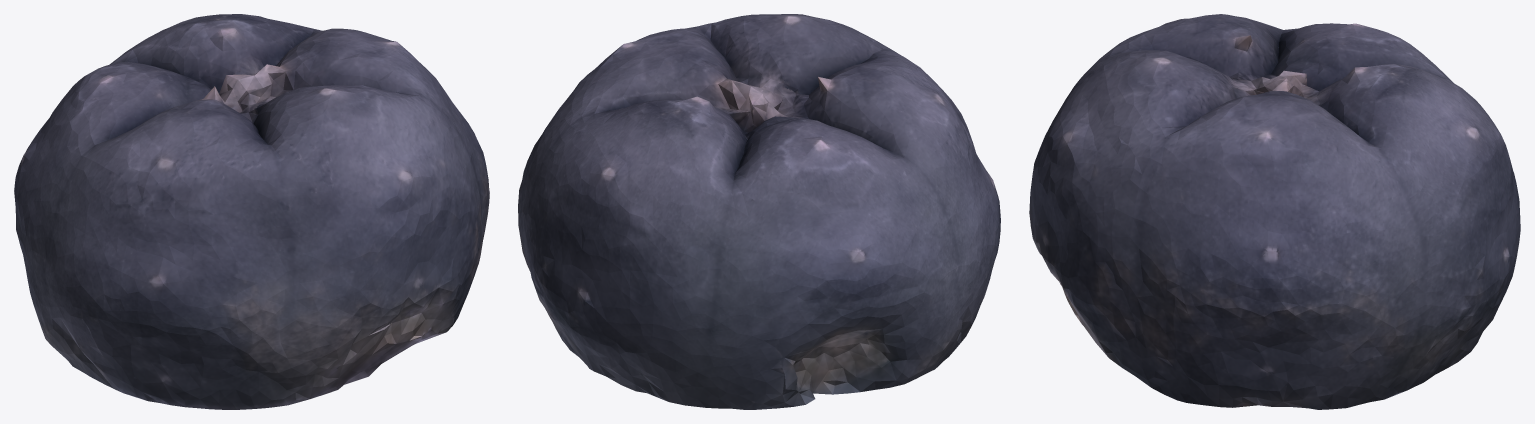
File: Cactus.glb
The picture shows the model from 3 angles, left to right: view 1: azimuth 30°, elevation 25°; view 2: azimuth 150°, elevation 25°; view 3: azimuth 270°, elevation 25°; orthographic projection. The views are drawn at different scales.
Visible parts, largest first — view 1: Mesh_0_Part_0; view 2: Mesh_0_Part_0; view 3: Mesh_0_Part_0.
Boxes of the visible parts, x1,y1,x2,y2 form: Mesh_0_Part_0: (14, 14, 489, 409); Mesh_0_Part_0: (518, 14, 1000, 409); Mesh_0_Part_0: (1029, 14, 1520, 409).
Size of the model in its own units: 0.0502 by 0.0305 by 0.0492.
Materials: 1 (1 with a texture image).
